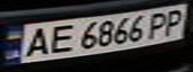6: (75, 19, 100, 51), (127, 12, 151, 43), (112, 16, 136, 46)
8: (97, 17, 118, 48)
A: (18, 25, 54, 58)
E: (42, 21, 78, 55)
P: (142, 9, 175, 39), (157, 7, 190, 37)
